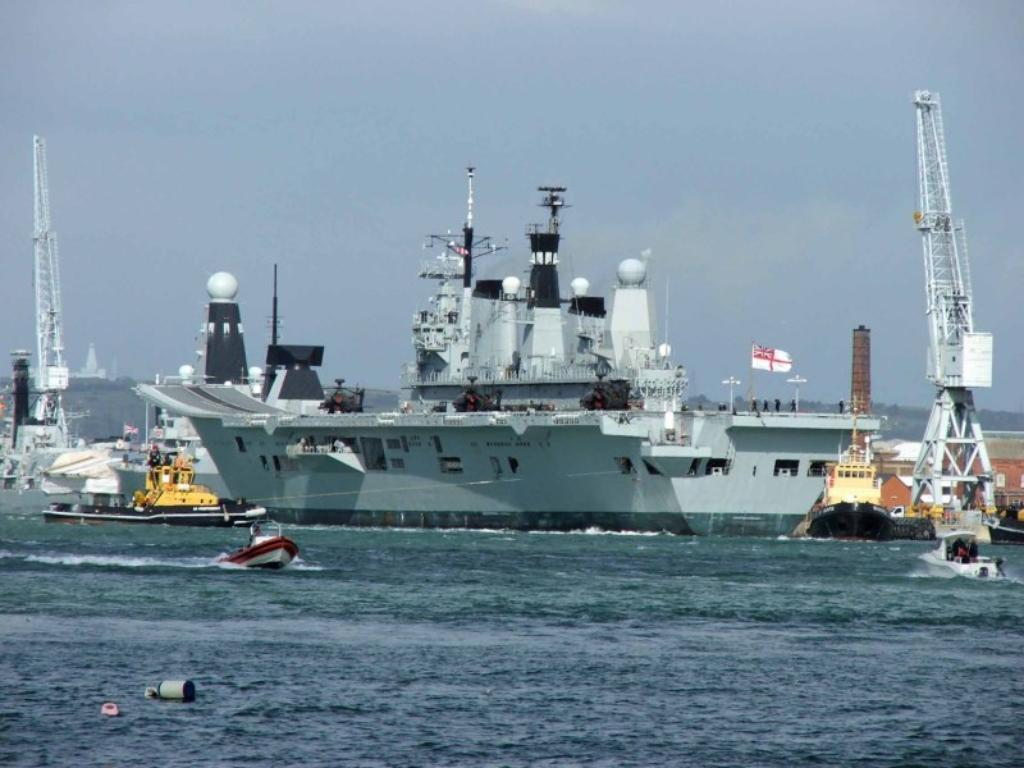Warship: (129, 160, 889, 544)
